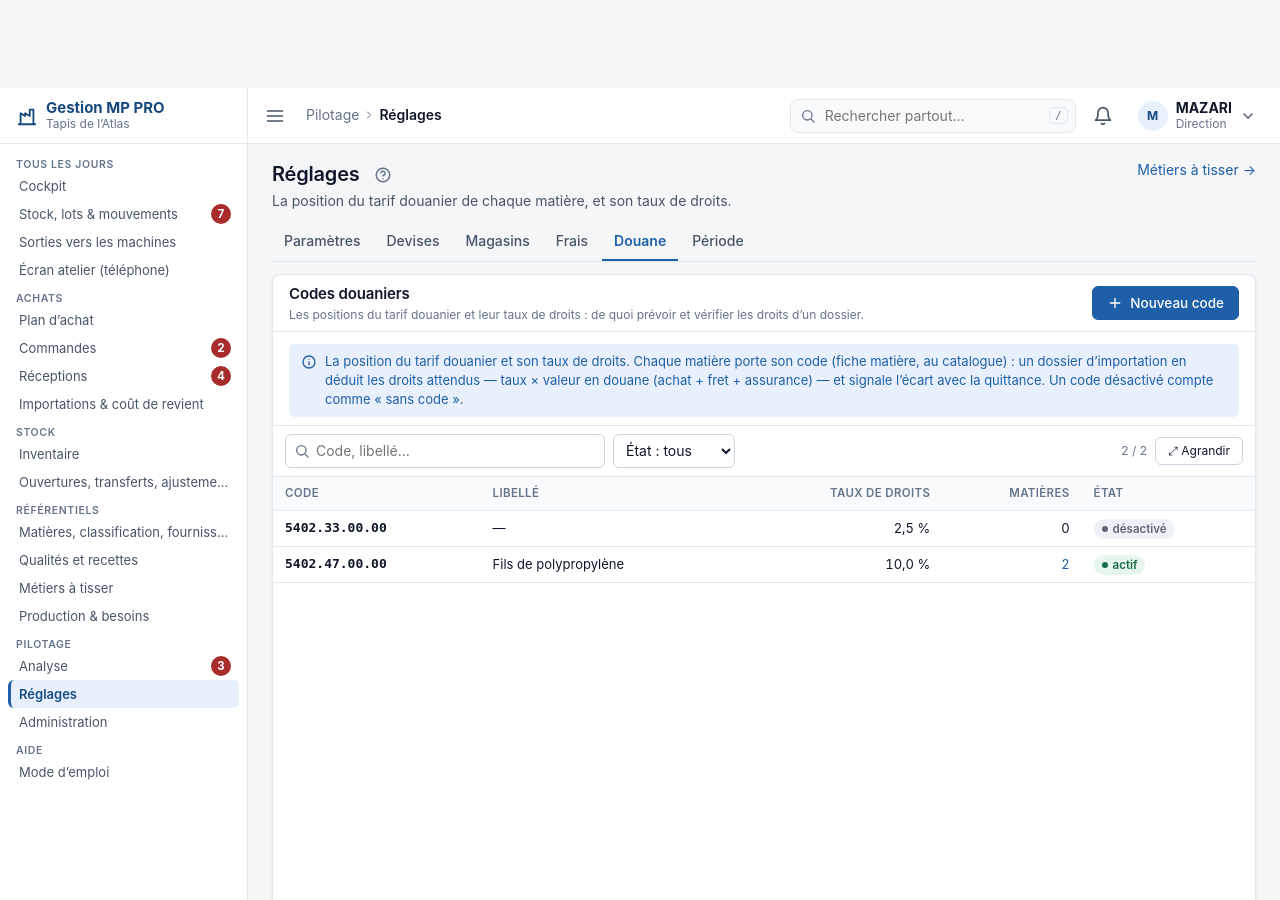
Codes douaniers › liste : taux en %, lien vers les matières, filtre d’état, recherche
(page scrolled)
Expected: the text "10,0 %" is shown, [737, 547, 942, 583]
Expected: the text "2,5 %" is shown, [737, 511, 942, 547]
Select "désactivé (1)" in the dropdown named "État": (674, 451) [613, 434, 735, 468]
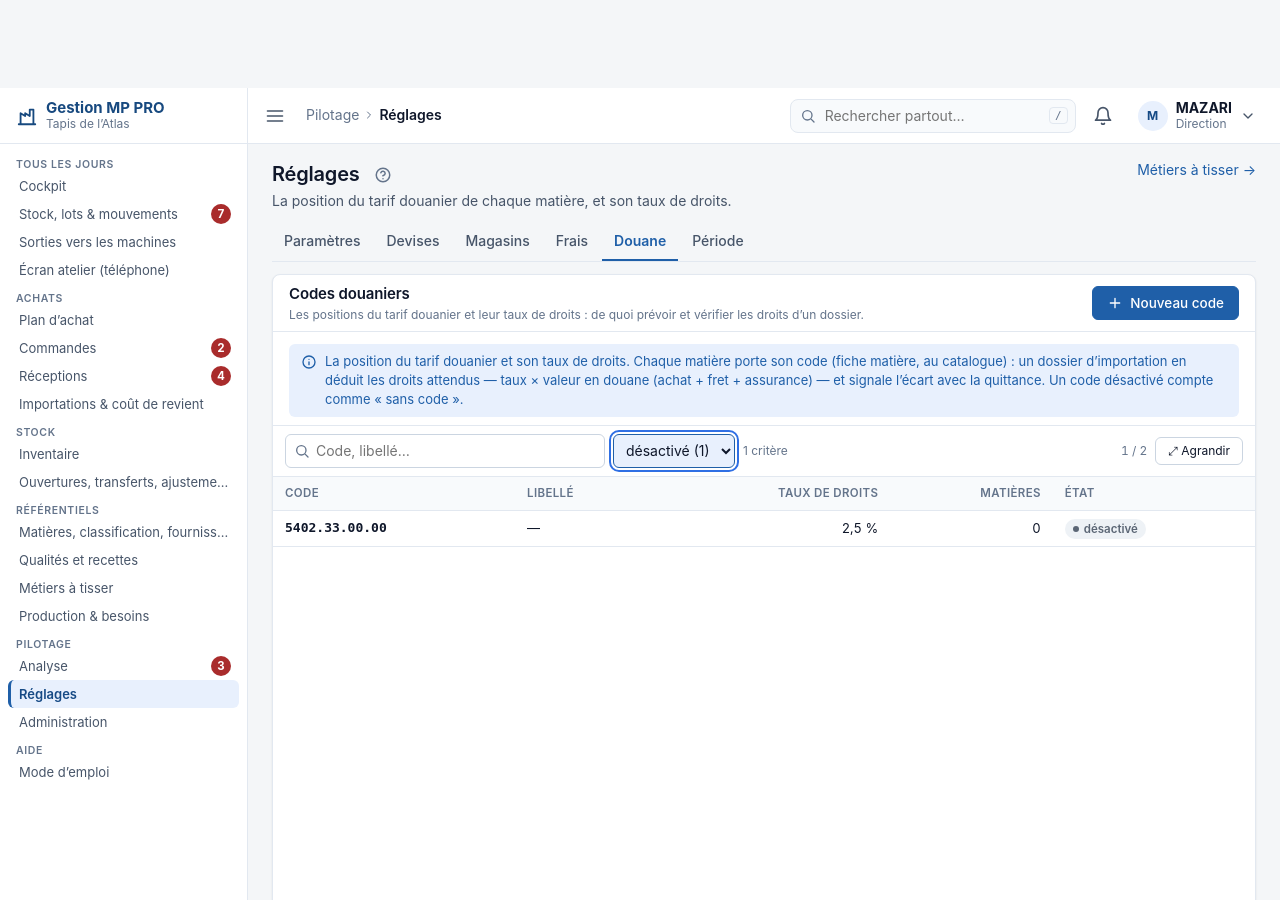
Expected: the text "5402.33.00.00" is shown, [285, 520, 387, 535]
Now the text "Fils de polypropylène" is gone
Select "État : tous" in the dropdown named "État": (674, 451) [613, 434, 735, 468]
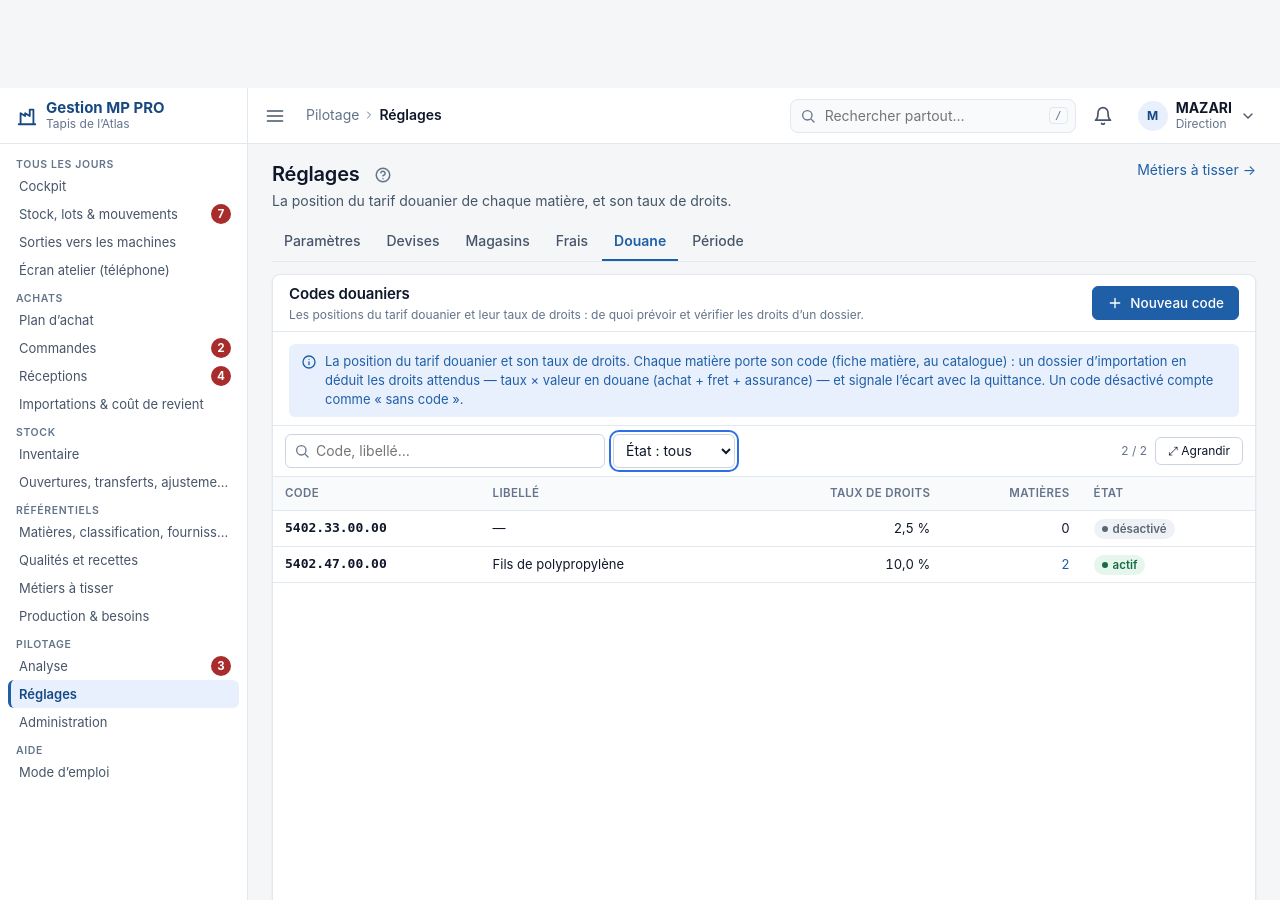
In the search field: (445, 451) [285, 434, 605, 468], type "polyprop"
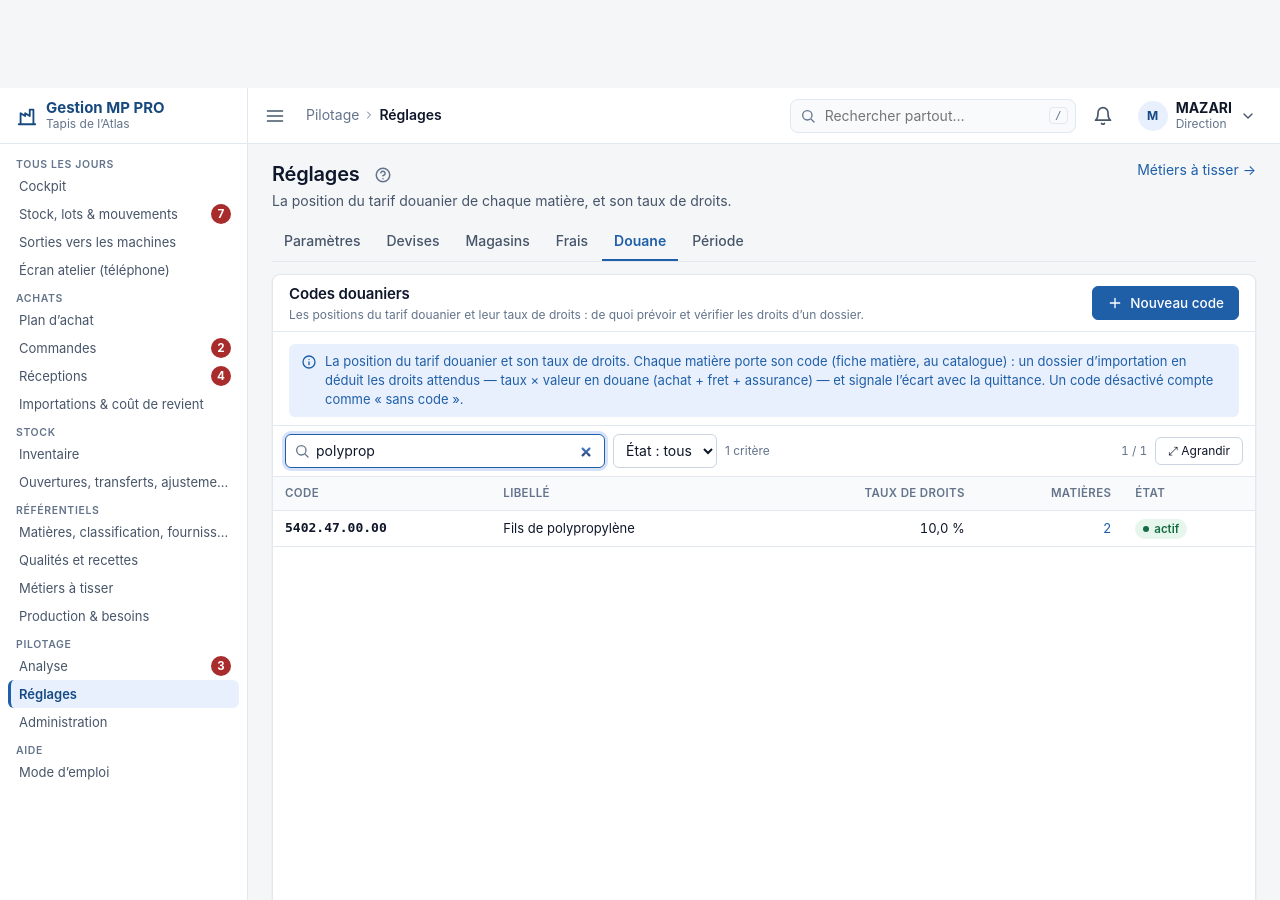
Now the text "5402.33.00.00" is gone
In the search field: (445, 451) [285, 434, 605, 468], type "zzz"
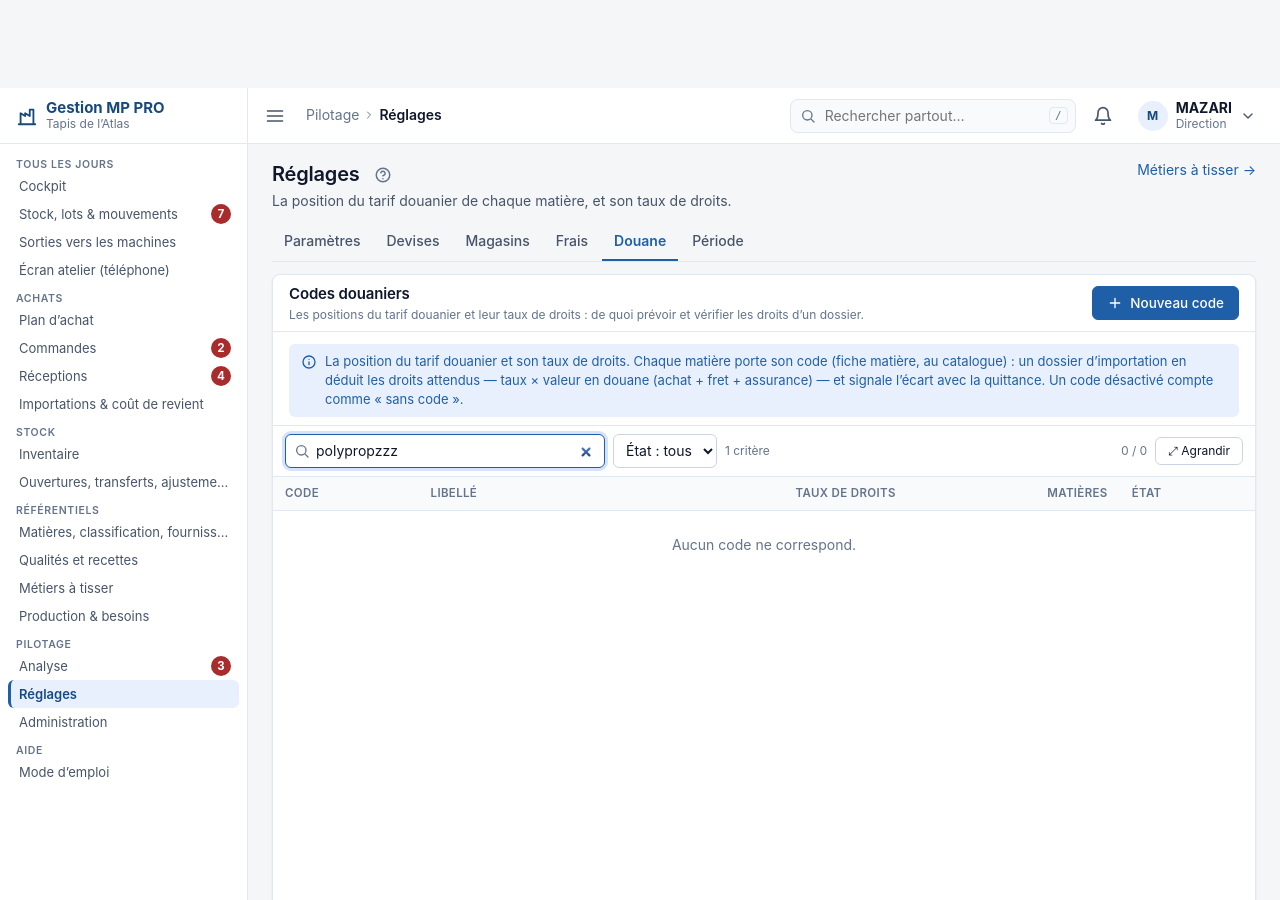
Now the text "Aucun code ne correspond." is shown, box [672, 536, 856, 553]
